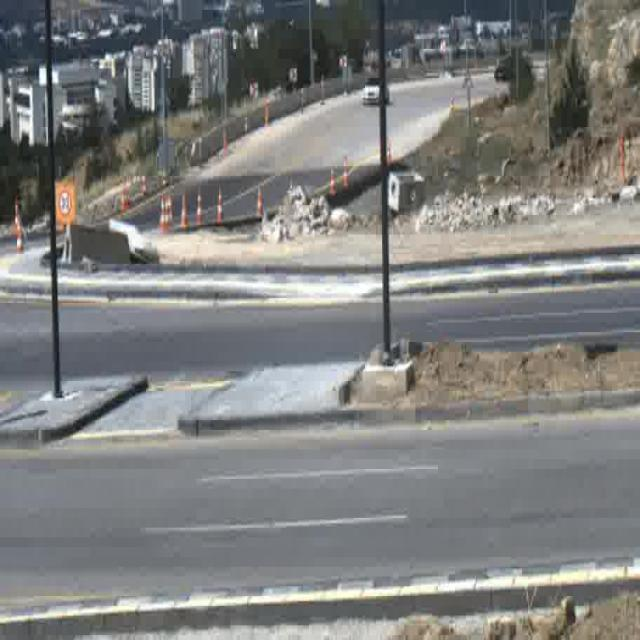Car: (363, 76, 389, 105), (495, 58, 514, 79)
